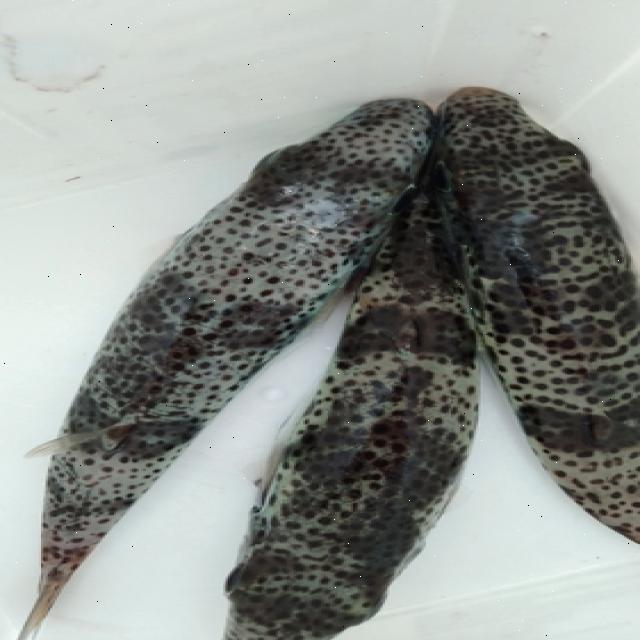Balik: (19, 99, 432, 639), (226, 194, 478, 639), (438, 89, 639, 542)
